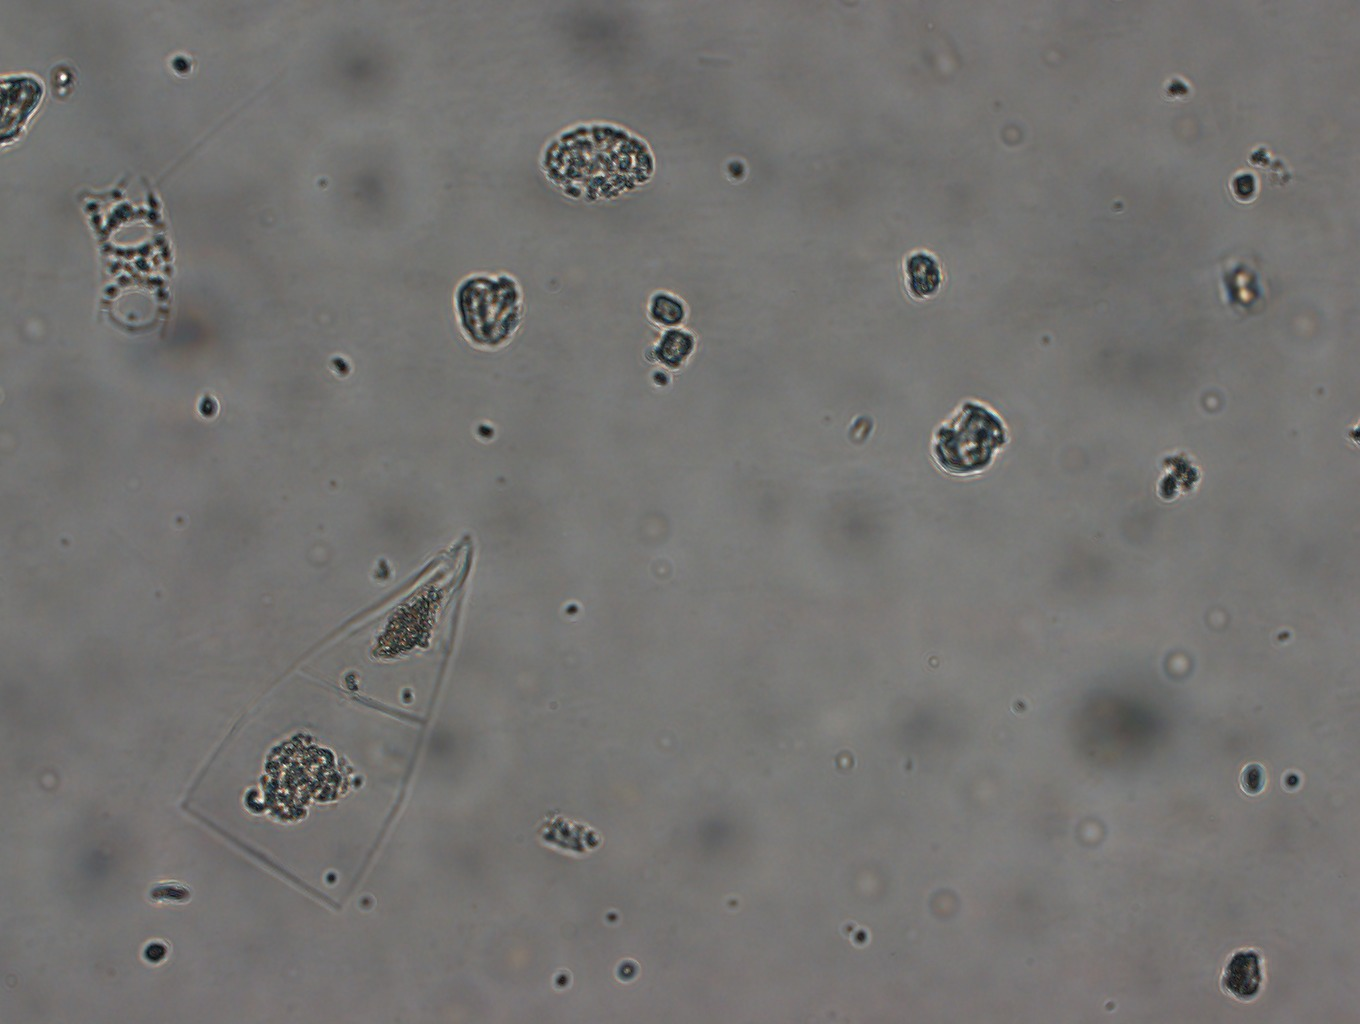eucampia: (77, 172, 176, 344)
helicotheca: (181, 527, 477, 911)
